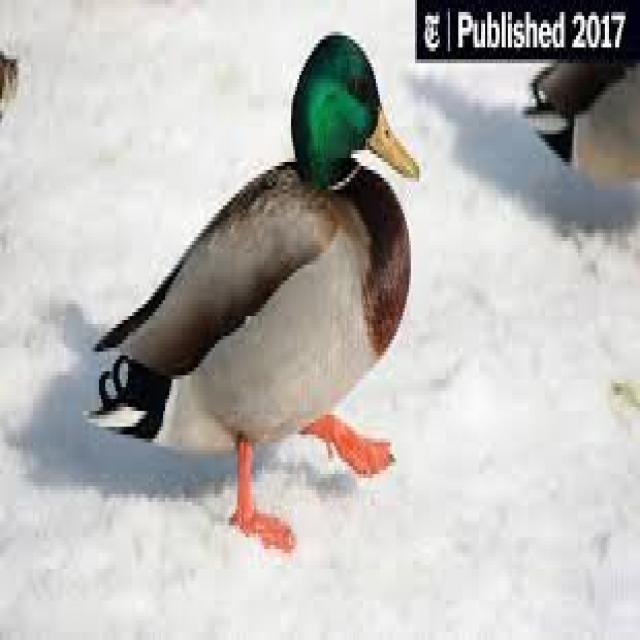Duck: (88, 26, 430, 558)
